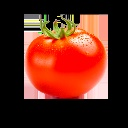tomato: (24, 28, 107, 98)
